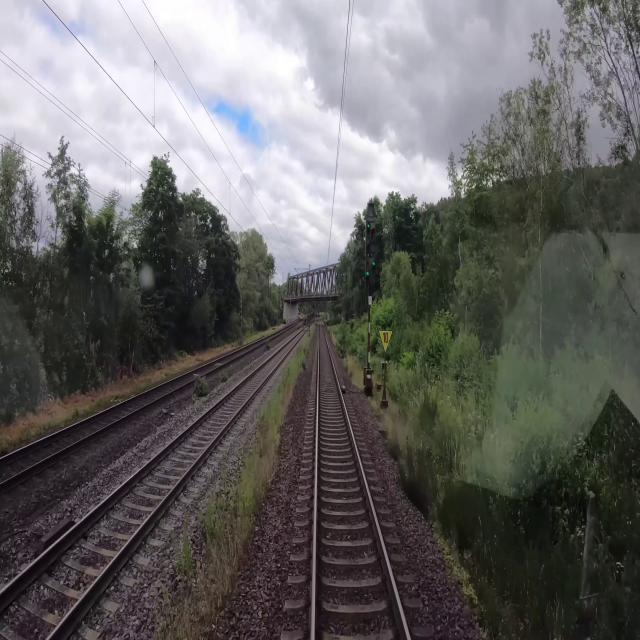Plant: (196, 445, 276, 624), (258, 364, 300, 449), (154, 581, 208, 639), (176, 513, 196, 578), (192, 373, 211, 398), (298, 352, 306, 371), (219, 369, 229, 381)
